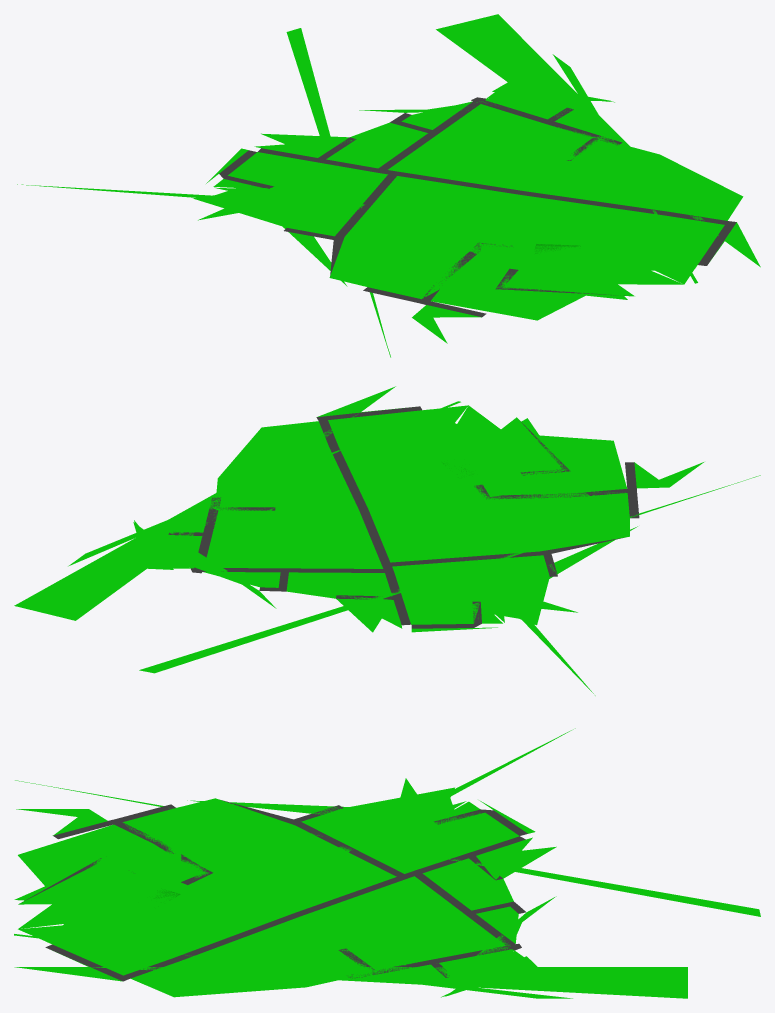
3 views of the same model, one above another, from view 1: azimuth 30°, elevation 25°; view 2: azimuth 150°, elevation 25°; view 3: azimuth 270°, elevation 25° (orthographic). The views are drawn at different scales.
Bounding box in the file's own units: 257 × 0 × 299.
